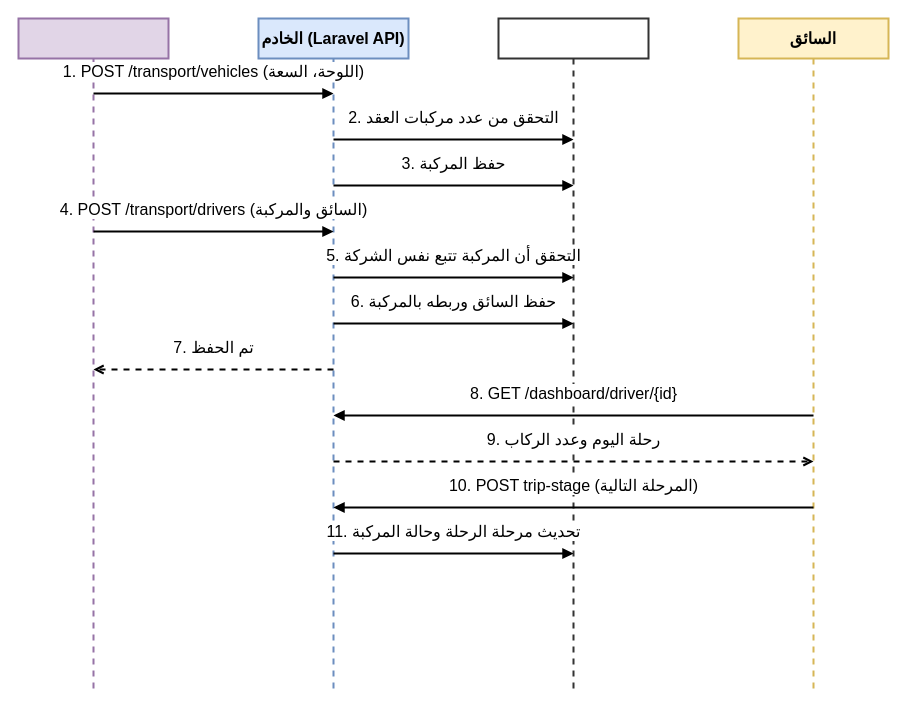
Some shapes in this 906 by 706 pixel diagram are drawn without their labels. The shapes that lost their labels are listed below. From the top down, each one's box as (x1, y1, x2, y2) in pixels, then its label:
(17, 17, 169, 689): شركة النقل
(497, 17, 649, 689): قاعدة البيانات
